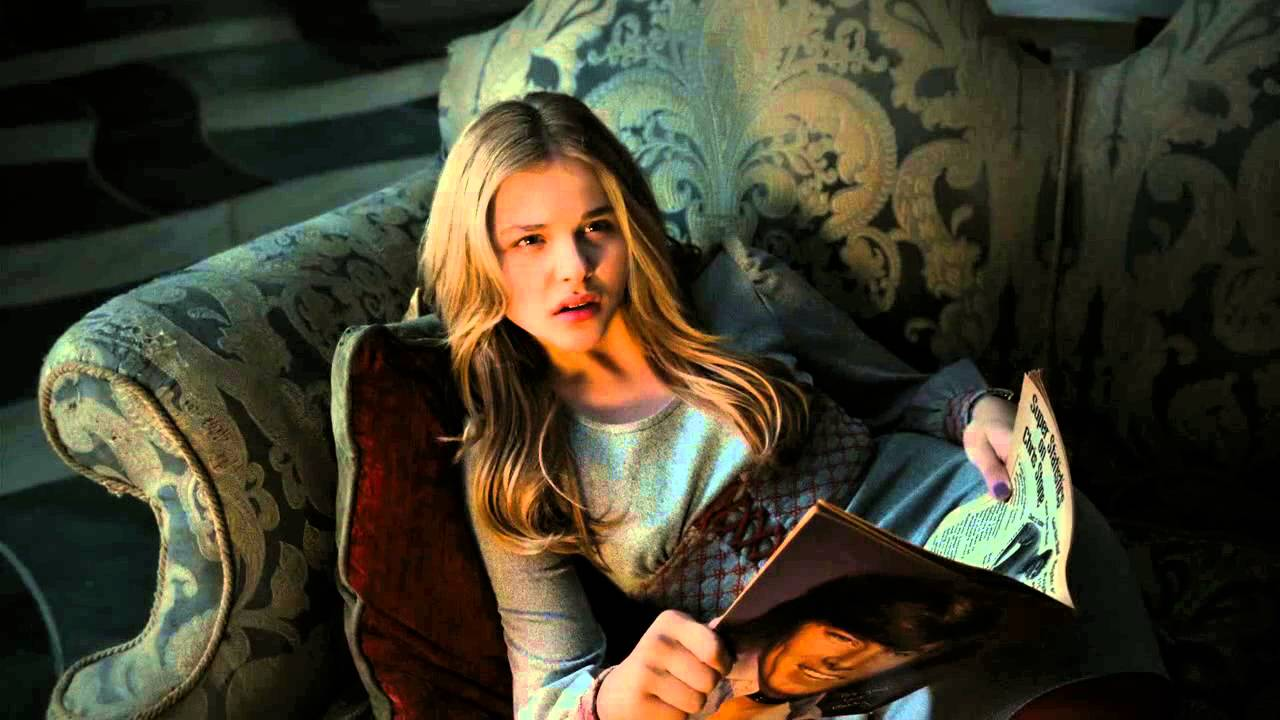GIRL: (464, 125, 650, 360)
